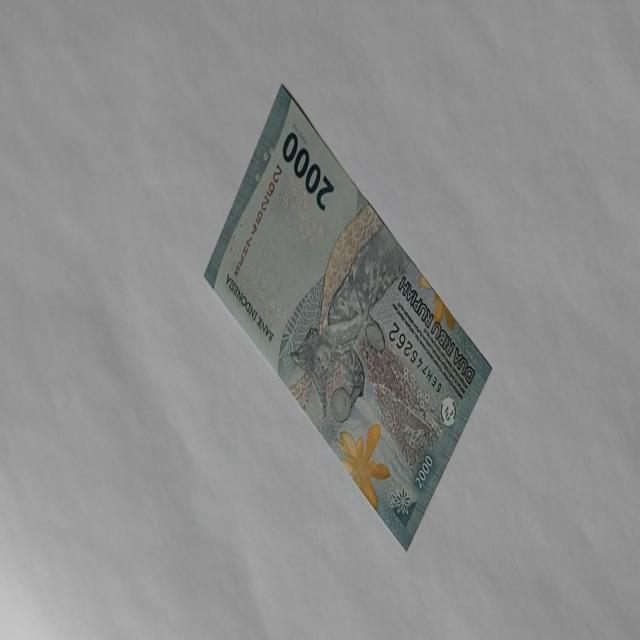dua ribu rupiah: (203, 82, 492, 552), (336, 421, 390, 512)
